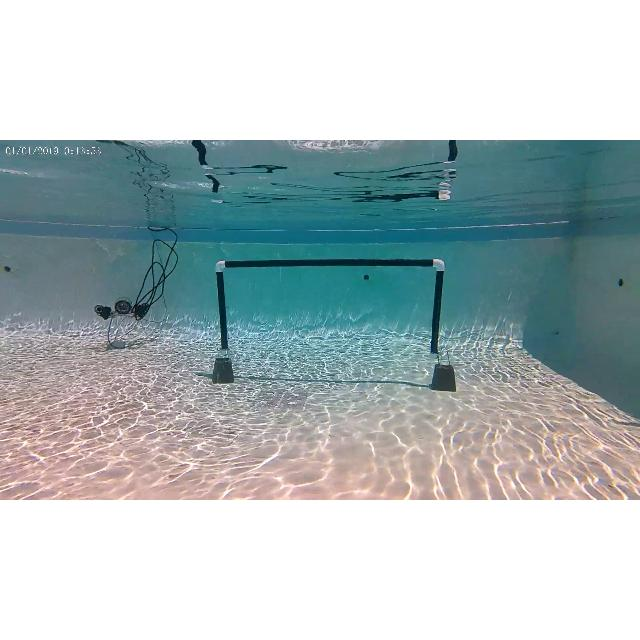prequal gate: (214, 259, 446, 359)
prequal gate leg l: (208, 258, 236, 384)
prequal gate leg r: (428, 258, 460, 392)
